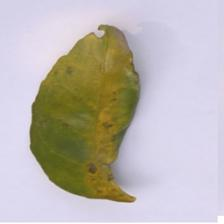greening: (22, 17, 148, 207)
